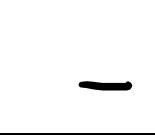minus: (78, 80, 132, 93)
